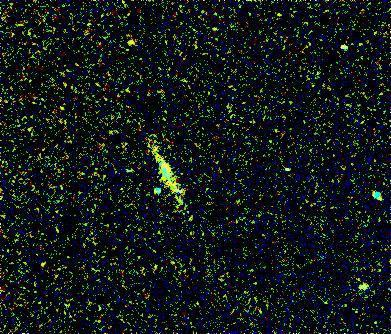star: (116, 30, 146, 60)
